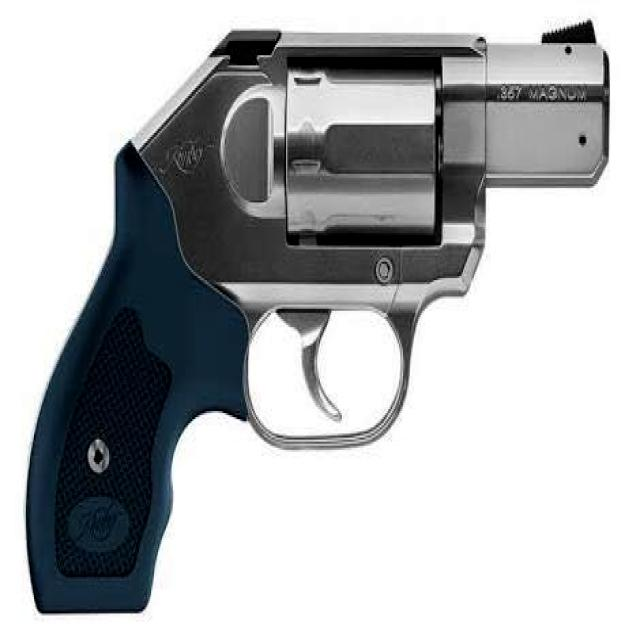revolver: (26, 15, 616, 626)
